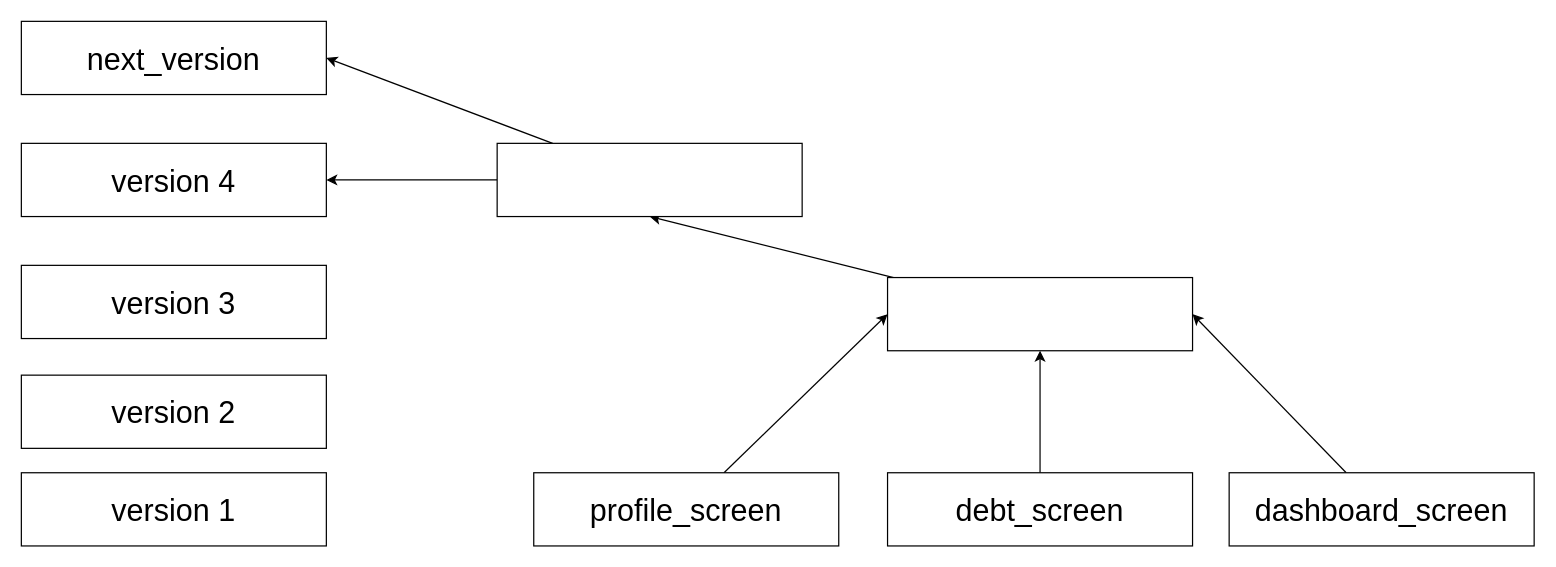
The diagram is 1556 pixels wide and 567 high, and some of its shapes have lost their labels. Here are the shapes that lost their labels. From the top down, the centre of each, then its label:
At (649,179): "stable".
At (1039,313): "dev".
